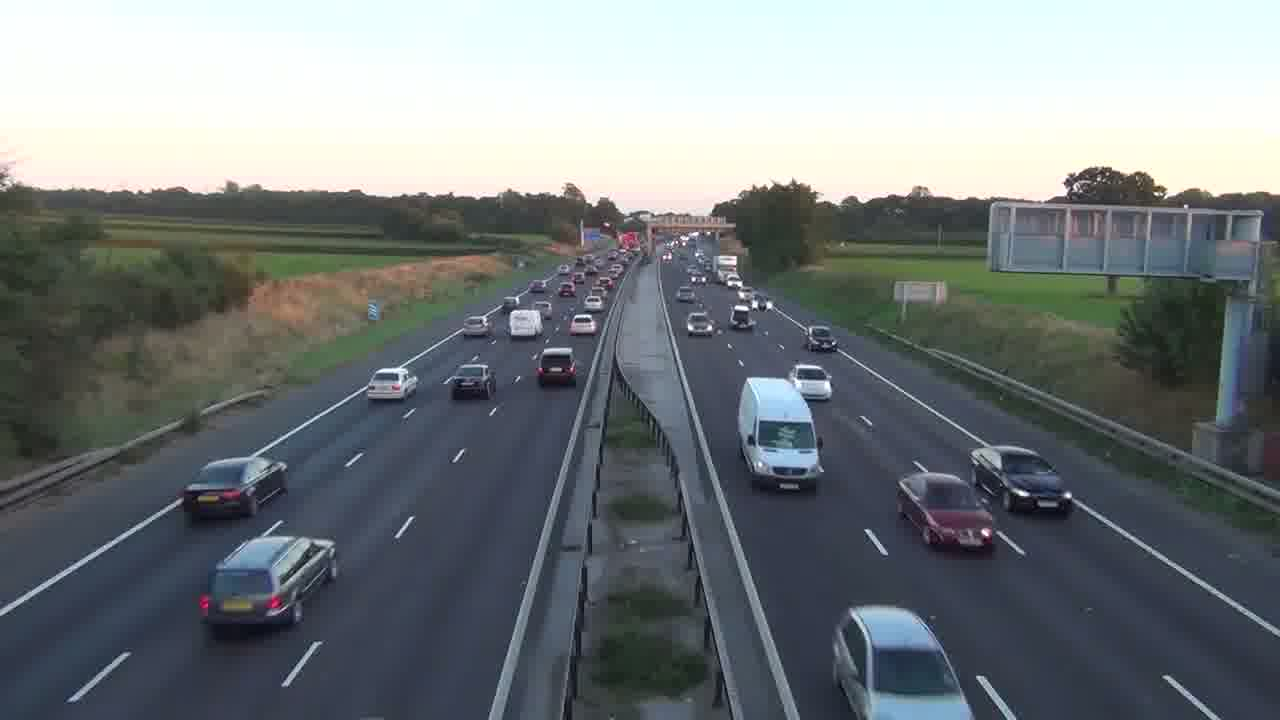car: (832, 604, 974, 719), (197, 530, 338, 635), (895, 470, 995, 552), (969, 444, 1074, 516), (179, 455, 289, 521), (444, 362, 496, 400), (786, 361, 833, 402), (366, 366, 418, 401), (533, 346, 577, 387), (569, 313, 597, 336)
truck: (736, 376, 825, 492)
